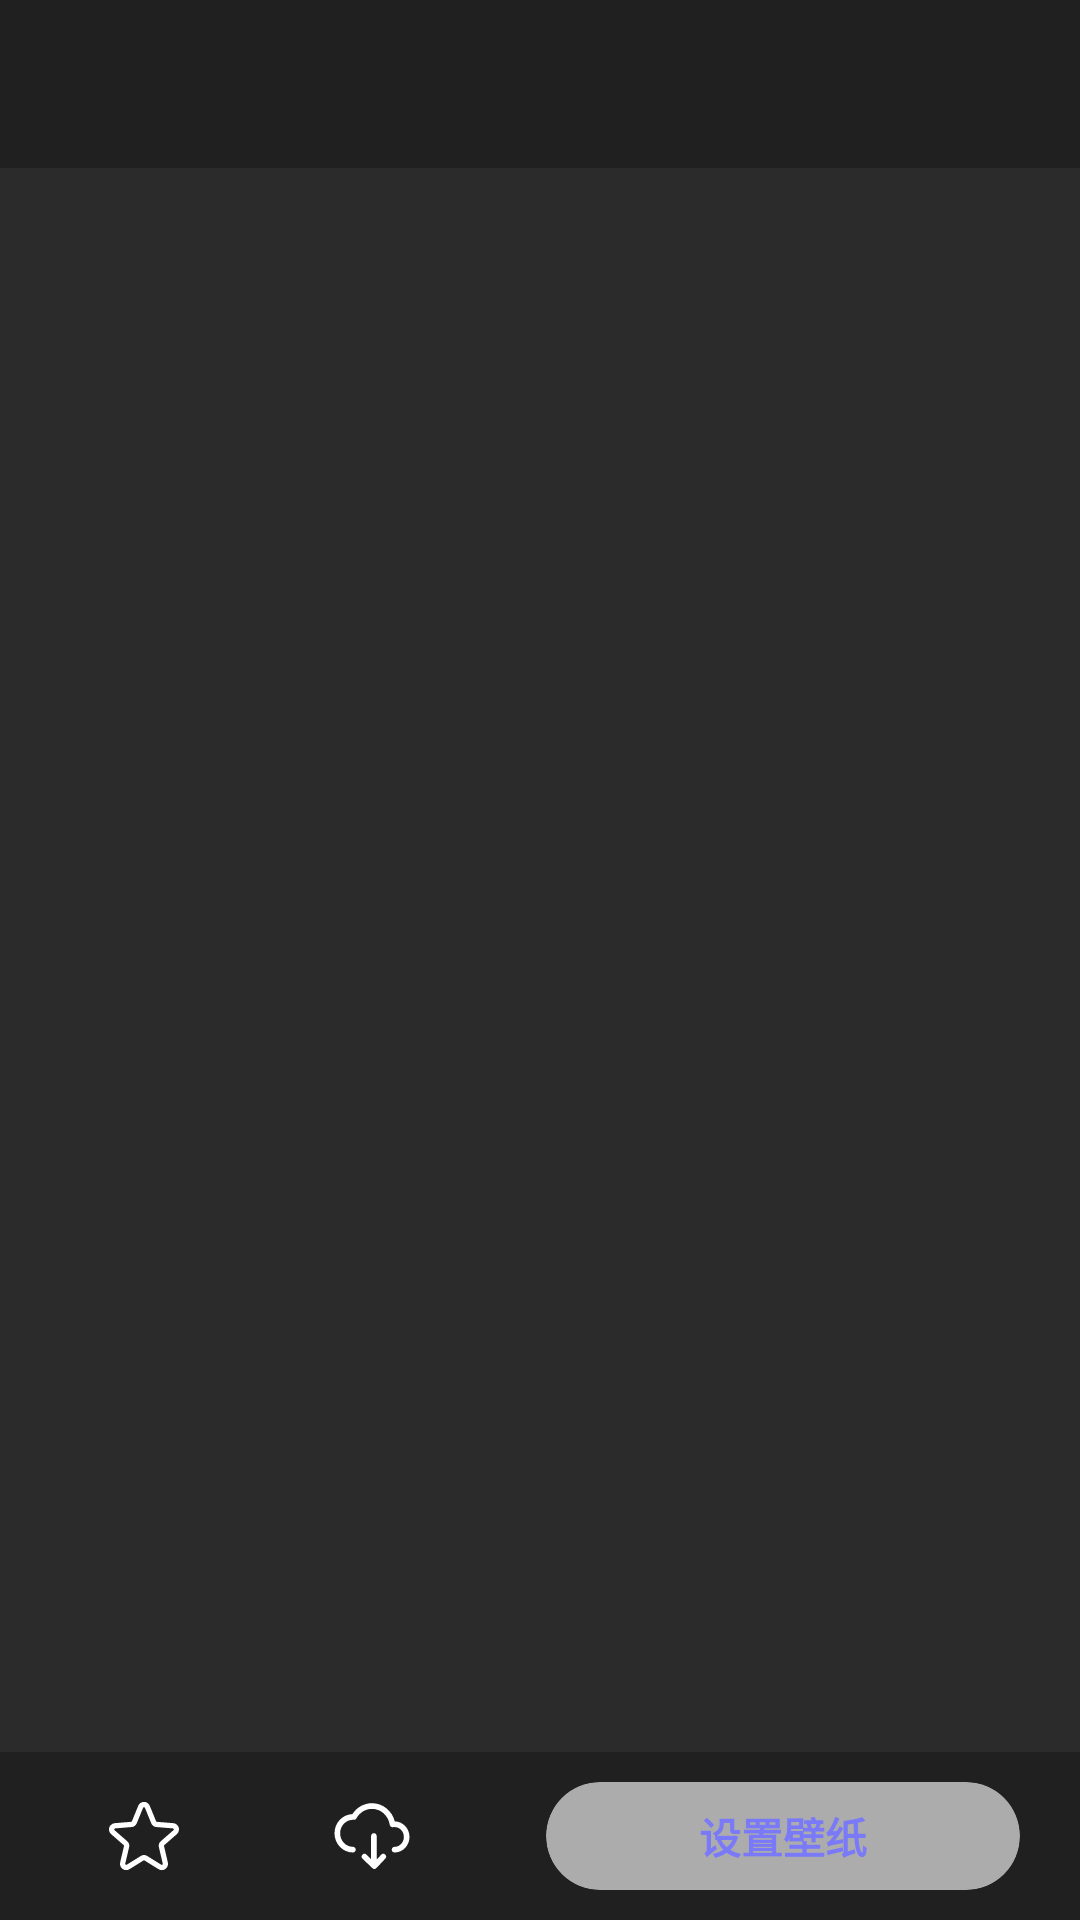

Named icons in this screenshot (1080w x 1920h) and their centers, point (x, y):
download: point (372, 1836)
keep: point (144, 1836)
